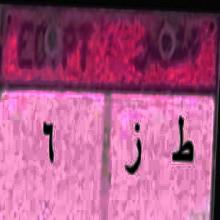6: (40, 116, 58, 173)
Taa: (165, 110, 196, 176)
zay: (119, 113, 149, 191)
